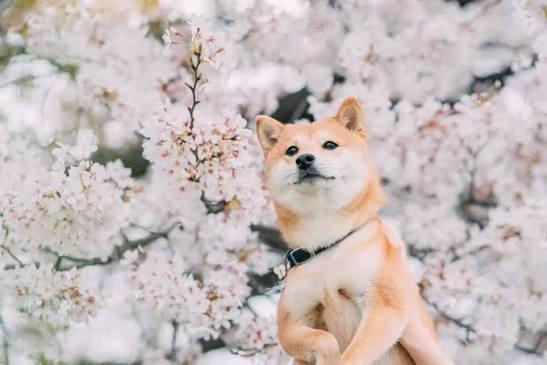adult_dog: (255, 94, 449, 365)
